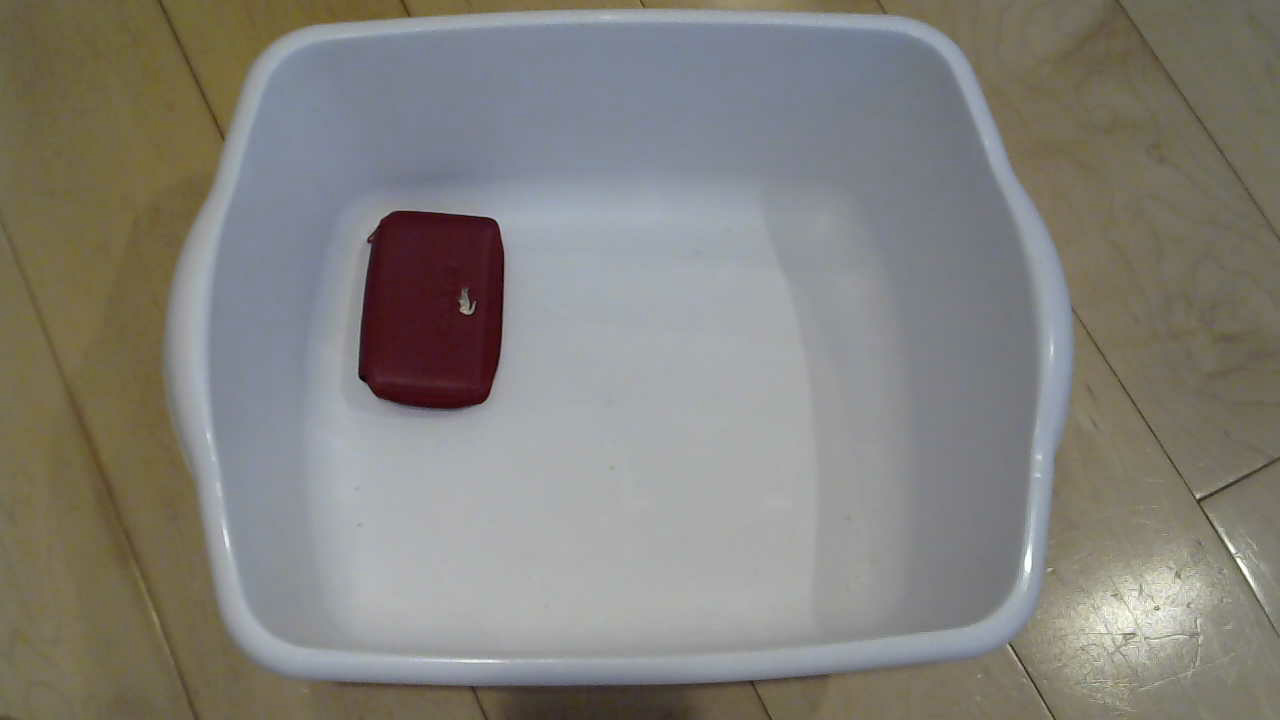wallet: (351, 197, 521, 431)
